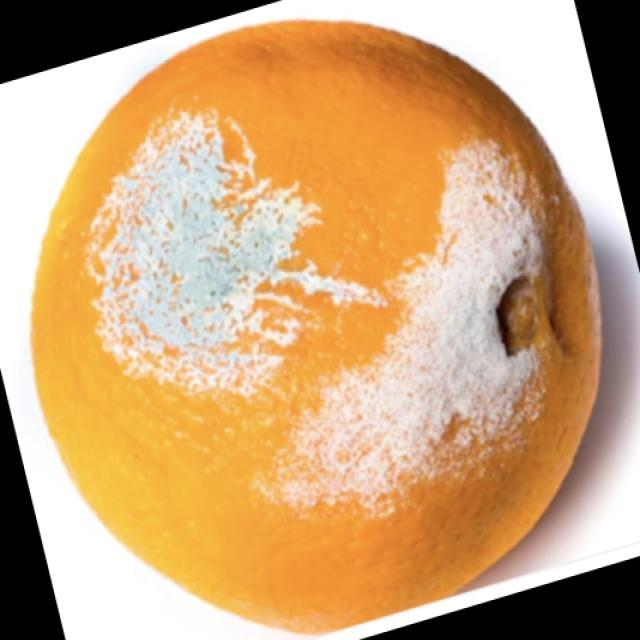sedikit-busuk: (33, 22, 599, 631)
